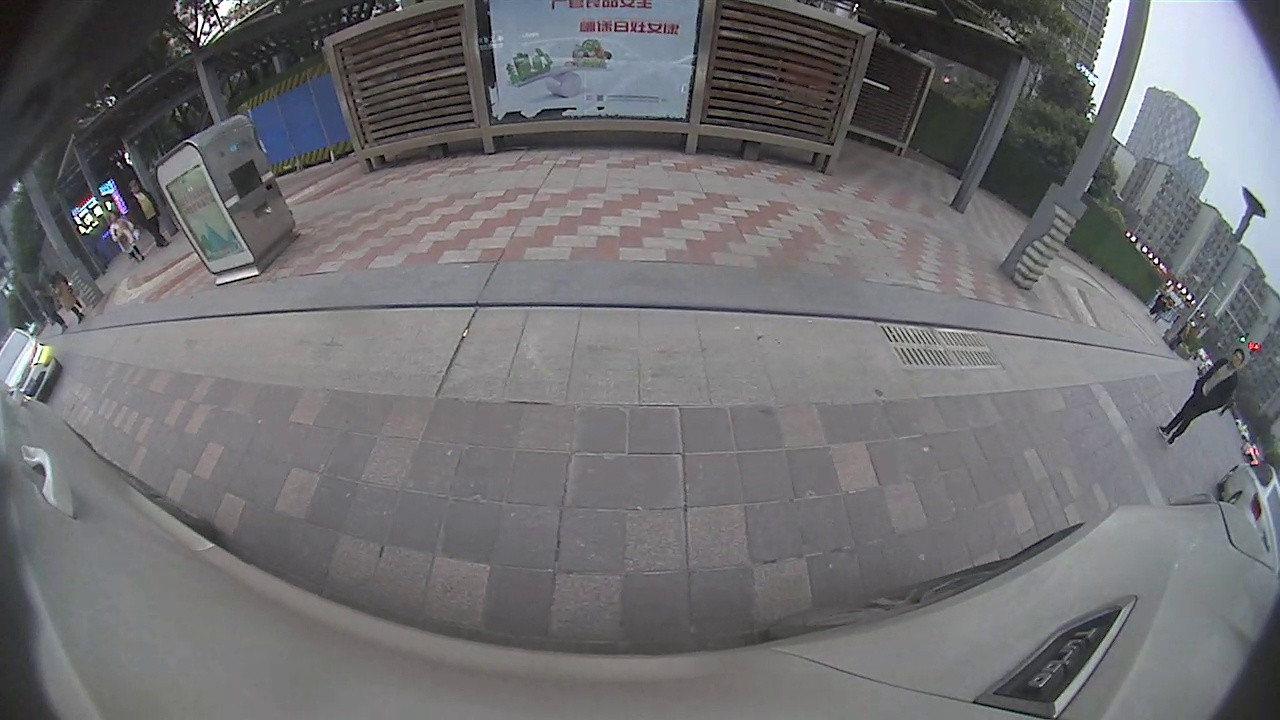car: (1, 326, 61, 407)
person: (1164, 346, 1246, 448)
